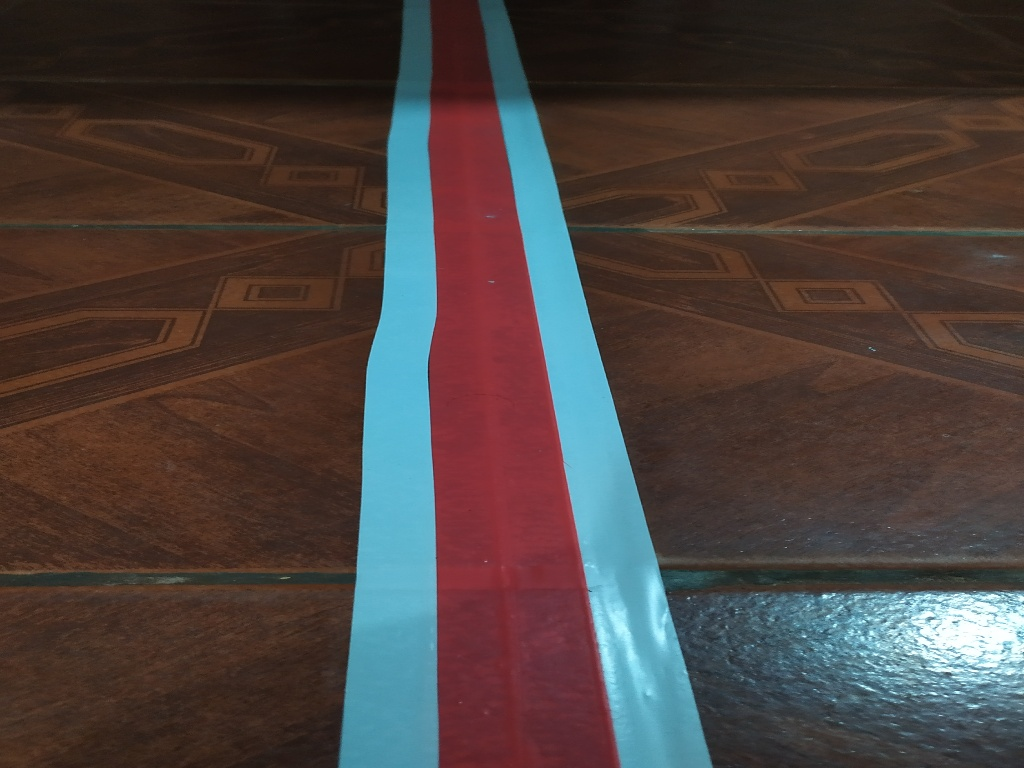reta: (345, 4, 713, 767)
